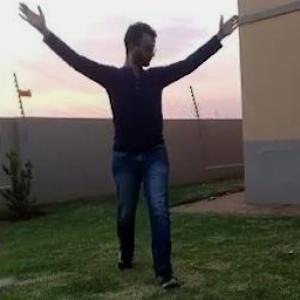takeoff: (1, 2, 254, 291)
